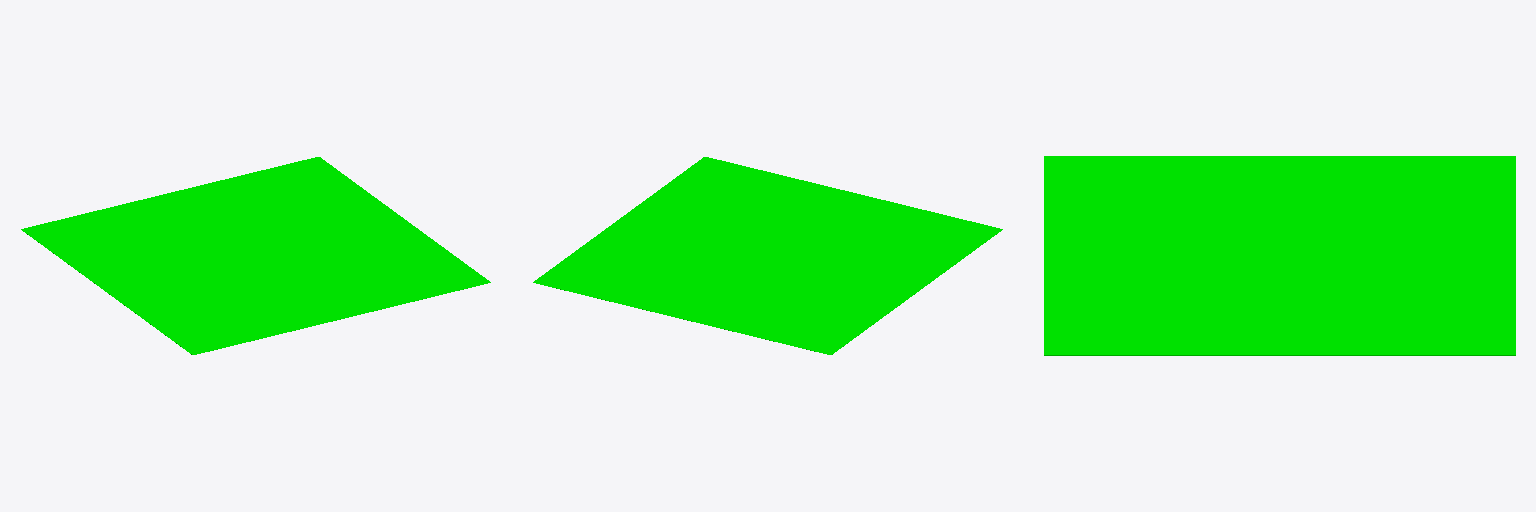
robot.urdf — cube:

<robot name="cube">
  <link name="baseLink">
    
    <inertial>
      <origin rpy="0 0 0" xyz="0 0 0"/>
       <mass value="0"/>
       <inertia ixx="1" ixy="0" ixz="0" iyy="1" iyz="0" izz="1"/>
    </inertial>
    <visual>
      <origin rpy="0 0 0" xyz="0 0 0"/>
      <geometry>
	<box size="10 10 0.0025"/>
      </geometry>
       <material name="white">
        <color rgba="0 1 0 1"/>
      </material>
    </visual>
    <collision>
      <origin rpy="0 0 0" xyz="0 0 0"/>
      <geometry>
	<box size="10 10 0.0025"/>
      </geometry>
    </collision>
  </link>
</robot>

--- What the picture shows (computed from the rendered views, not written in the file) ---
3 views of the same robot in one strip: view 1: azimuth 30°, elevation 25°; view 2: azimuth 150°, elevation 25°; view 3: azimuth 270°, elevation 25° (orthographic).
Model cube with 1 links and 0 joints (none), rooted at baseLink, posed every joint at zero.
Visible links, largest first — view 1: baseLink; view 2: baseLink; view 3: baseLink.
Link boxes in pixels (box(x1,y1,x2,y2)): baseLink: box(21, 157, 490, 354); baseLink: box(533, 157, 1002, 354); baseLink: box(1044, 156, 1515, 355).
Size in the robot's own frame: 10 by 10 by 0.0025 metres.
Geometry: primitives only (box / cylinder / sphere), no mesh files.
